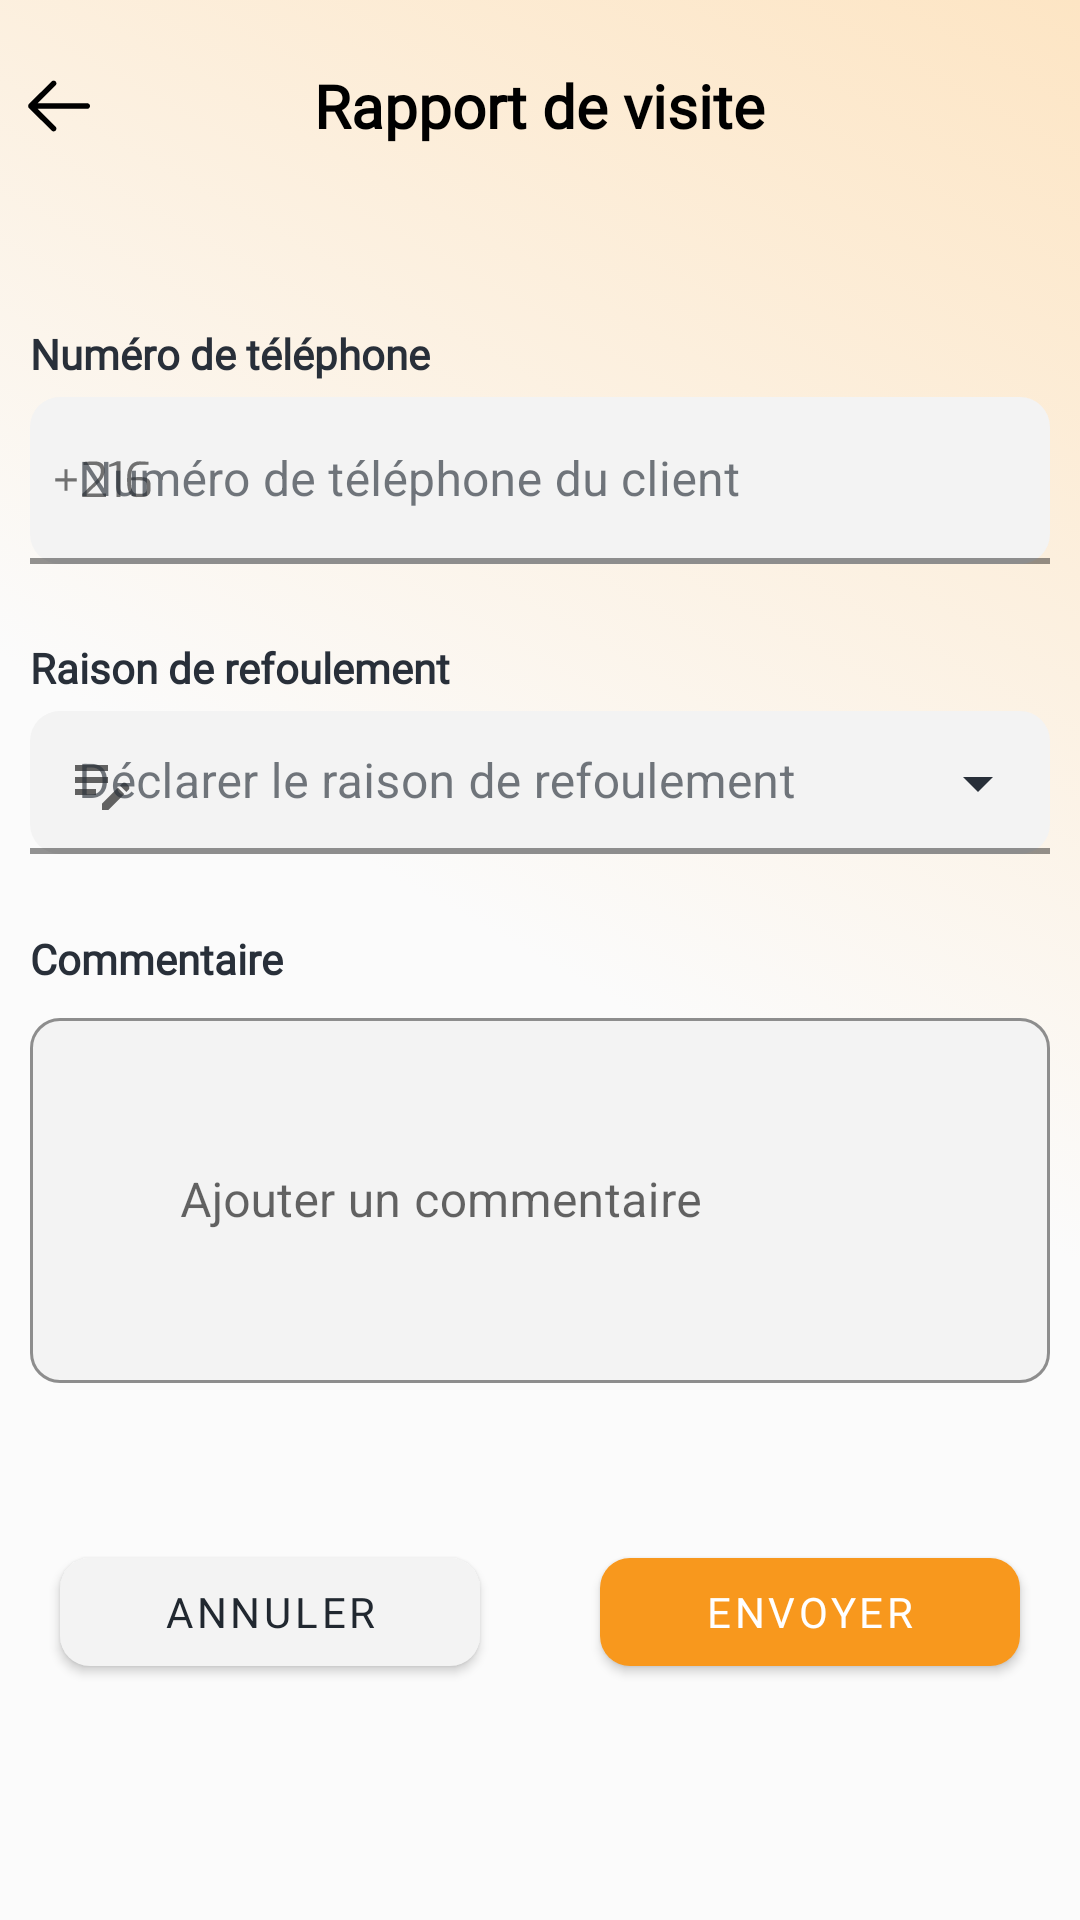

Icons on this 1080 x 1920 Android screen, each with the point to tap as (x=x, y=y):
arrow back: (x=59, y=106)
